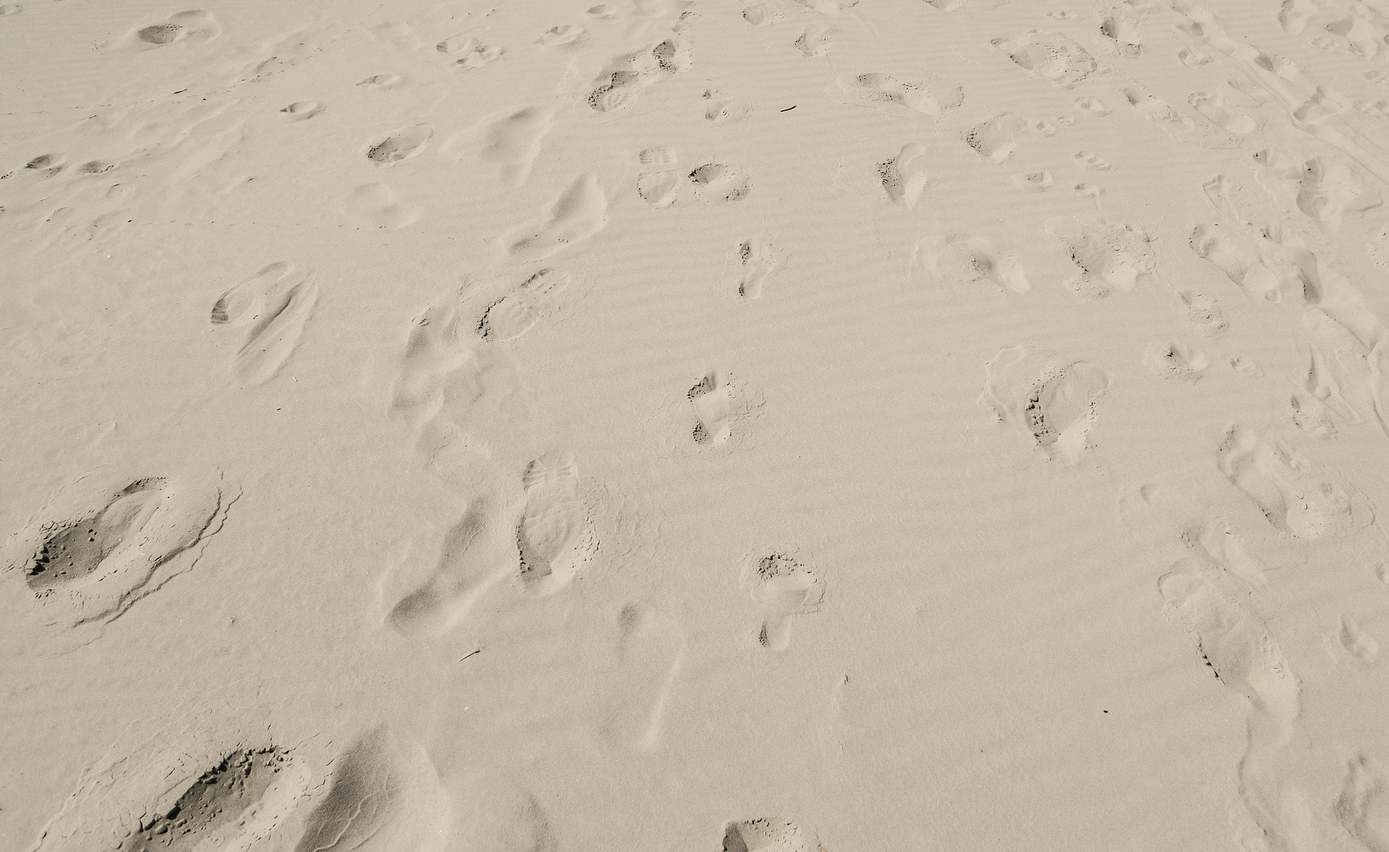human_foot_print: (4, 470, 238, 639), (293, 725, 449, 851), (388, 495, 517, 636), (1218, 427, 1367, 540), (980, 347, 1110, 464), (210, 261, 318, 385), (599, 602, 686, 750), (516, 453, 597, 595), (501, 174, 606, 260), (1047, 217, 1155, 296), (741, 552, 825, 652), (587, 34, 689, 112), (914, 233, 1030, 294), (477, 268, 571, 341), (469, 106, 553, 186), (991, 30, 1097, 88), (844, 72, 963, 119), (107, 11, 223, 51), (723, 817, 823, 851), (878, 142, 927, 210), (964, 113, 1027, 163), (364, 123, 433, 165), (637, 146, 684, 207), (1144, 342, 1209, 383), (739, 239, 778, 299)
